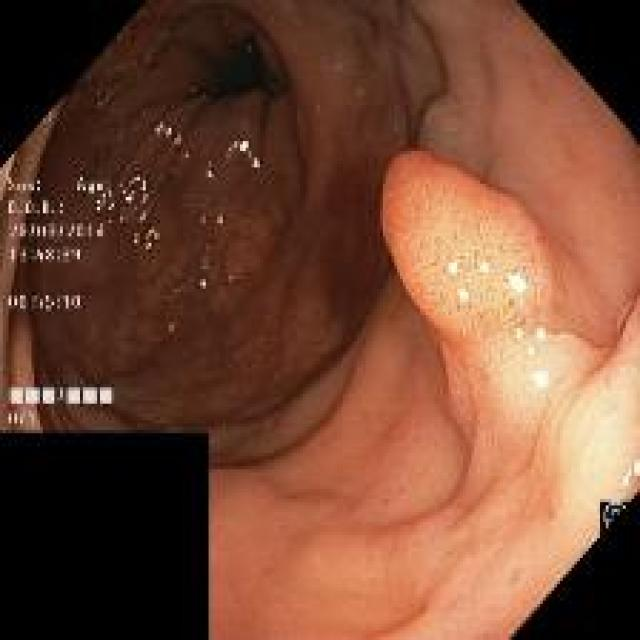Polyps: (382, 154, 558, 339)
